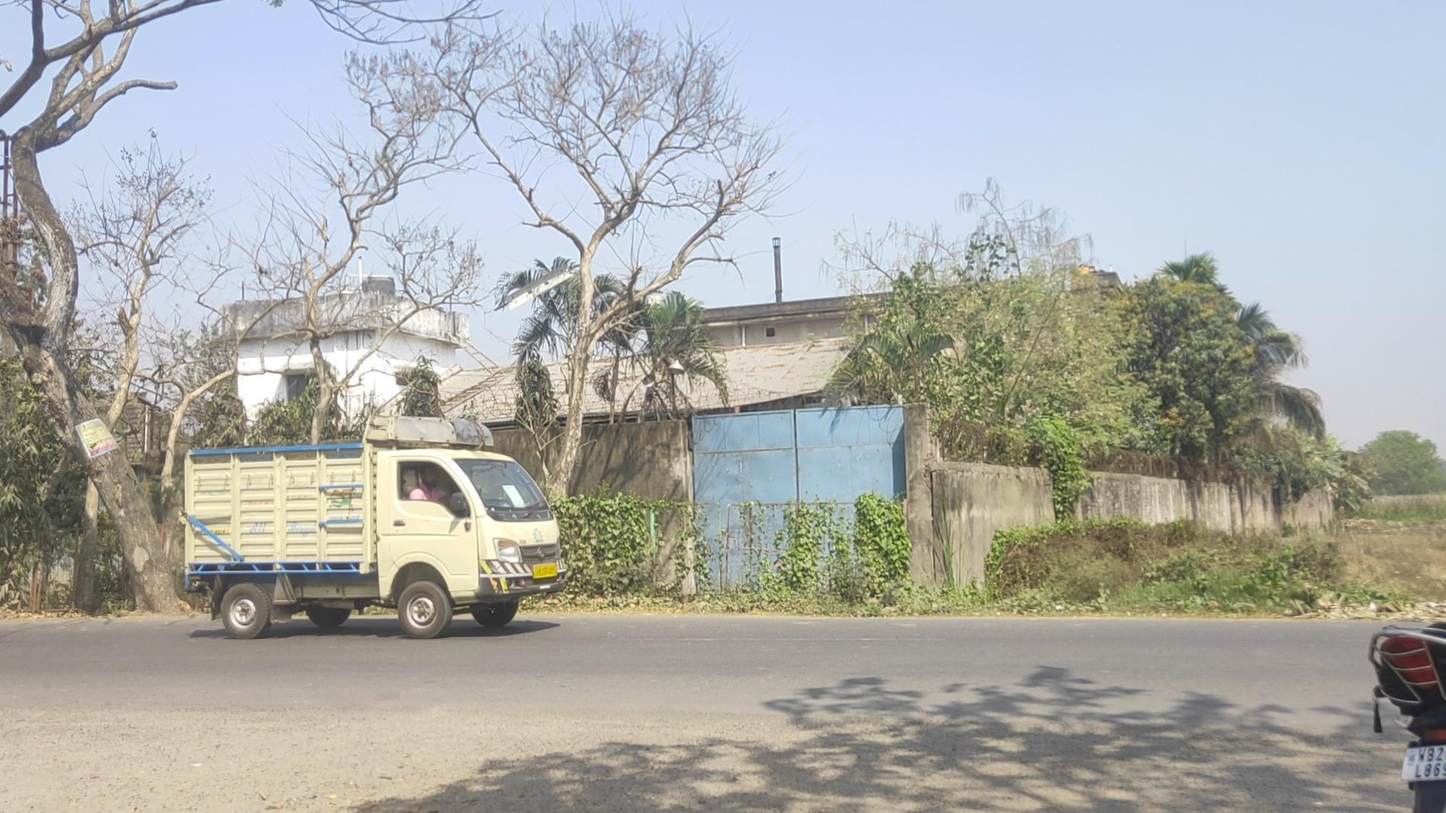van: (179, 412, 567, 640)
